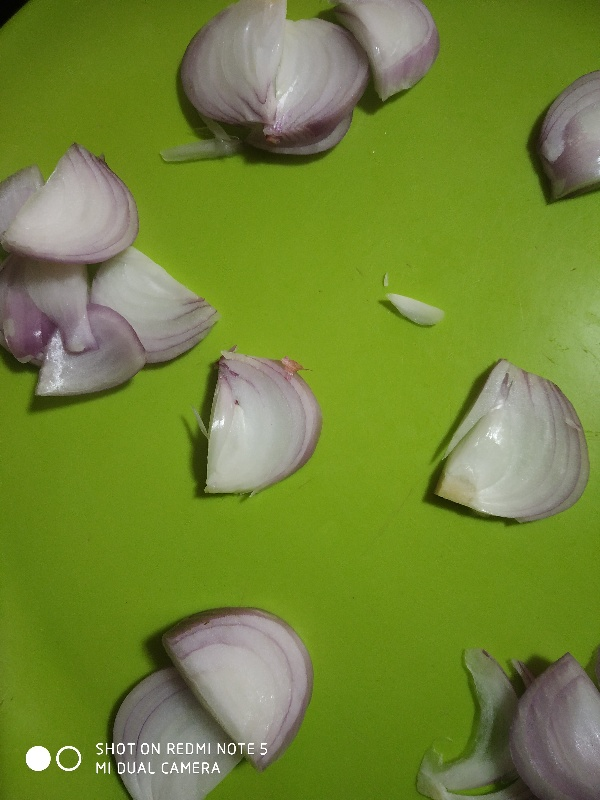onion_fresh: (3, 141, 214, 400), (168, 1, 446, 169), (104, 612, 314, 800), (427, 358, 590, 528), (450, 639, 599, 800), (195, 341, 333, 512), (523, 63, 600, 212)
